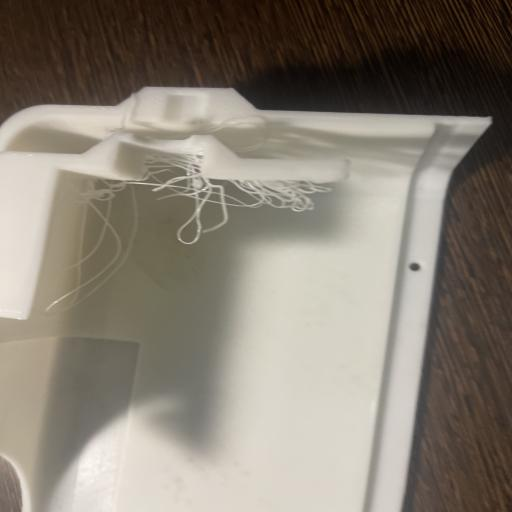stringing: (82, 163, 323, 280)
